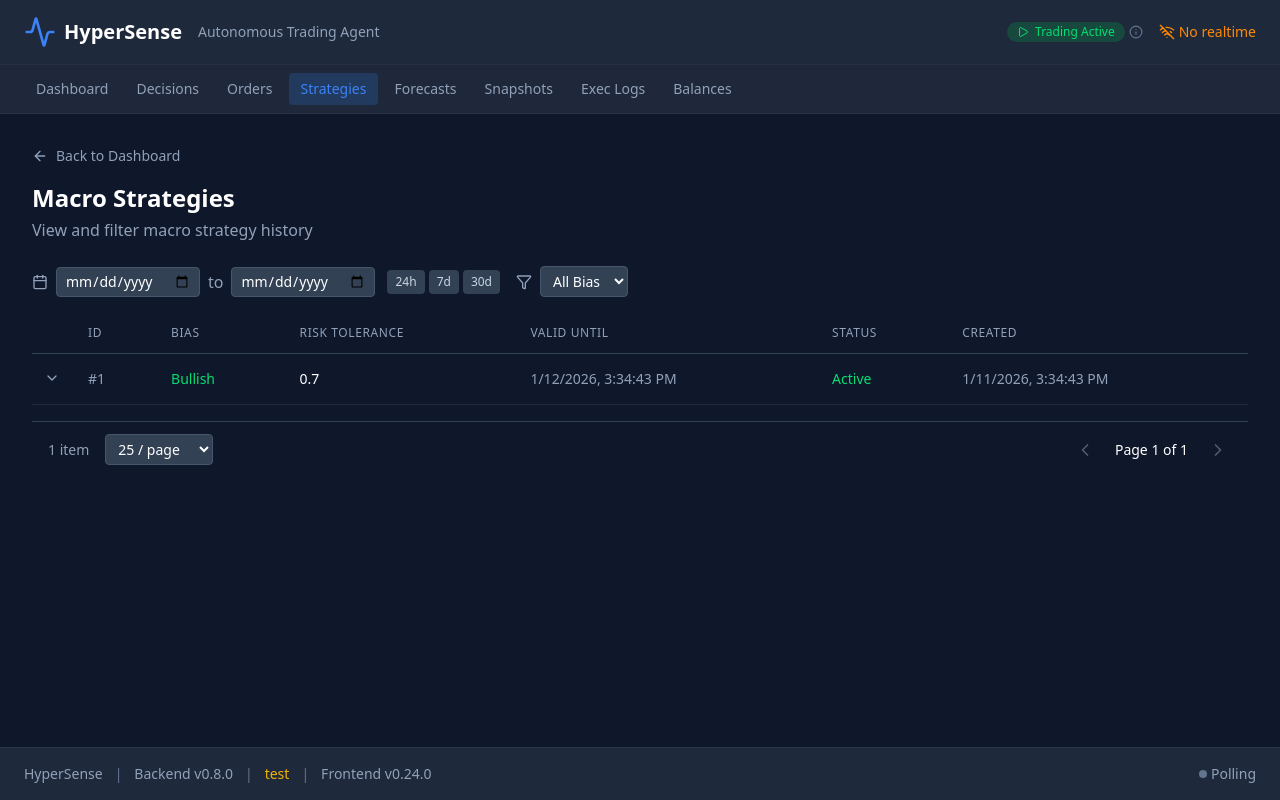
Test case: MacroStrategiesPage › Data Table › expands row to show market narrative
Click the button named "expand row" at (52, 378), box left=40, top=366, right=64, bottom=390
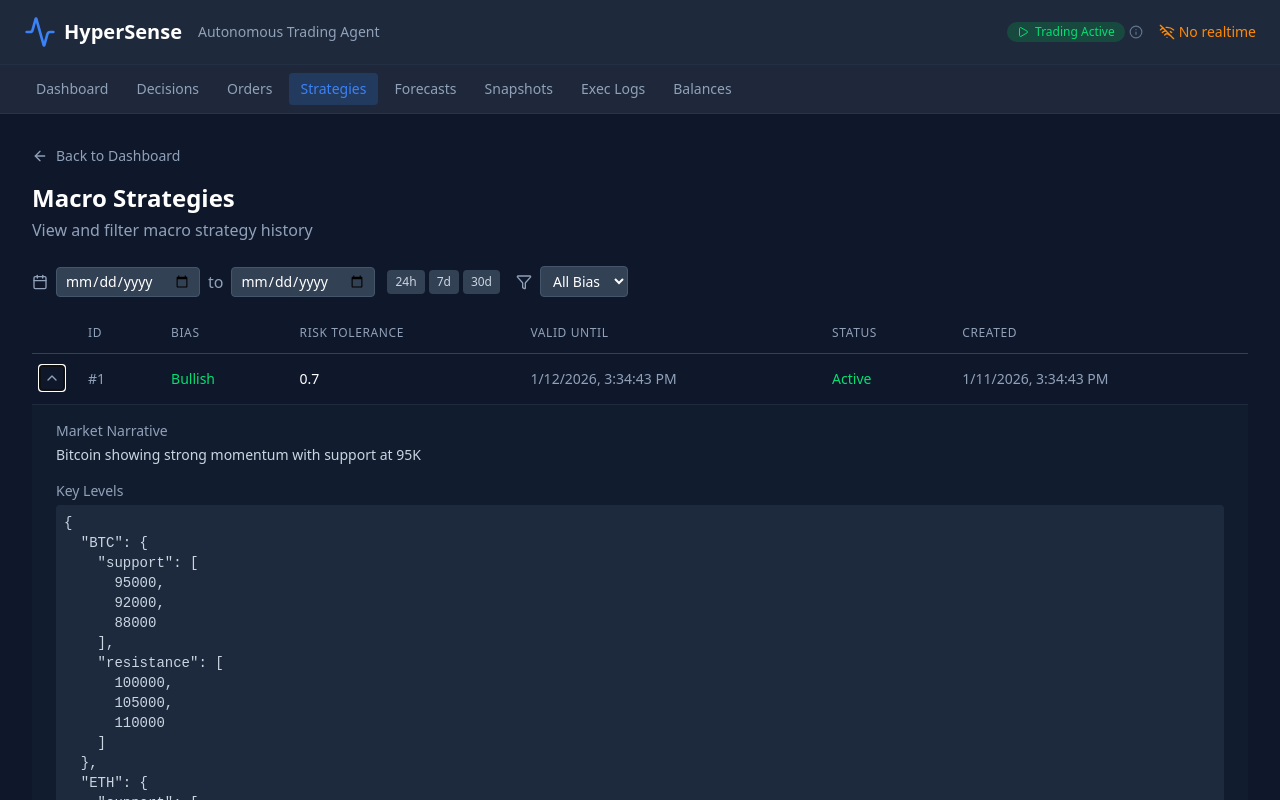
Result: the text "Bitcoin showing strong momentum with support at 95K" is shown at left=56, top=445, right=421, bottom=464
